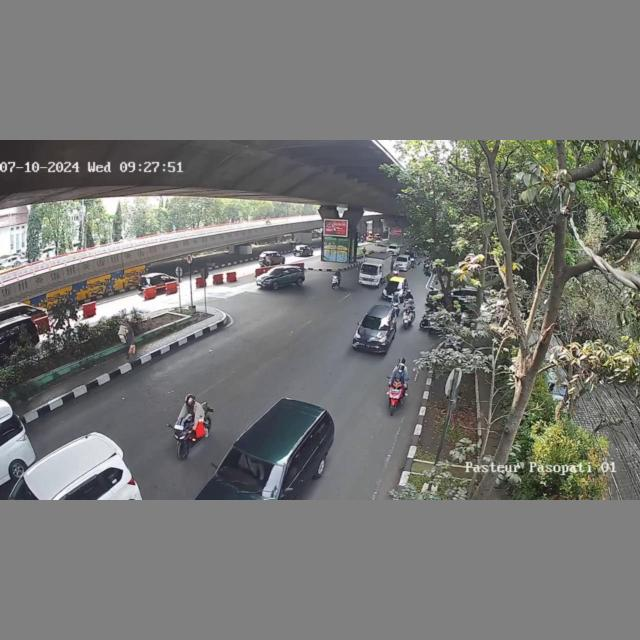windshield: (221, 442, 287, 497), (362, 316, 391, 330)
